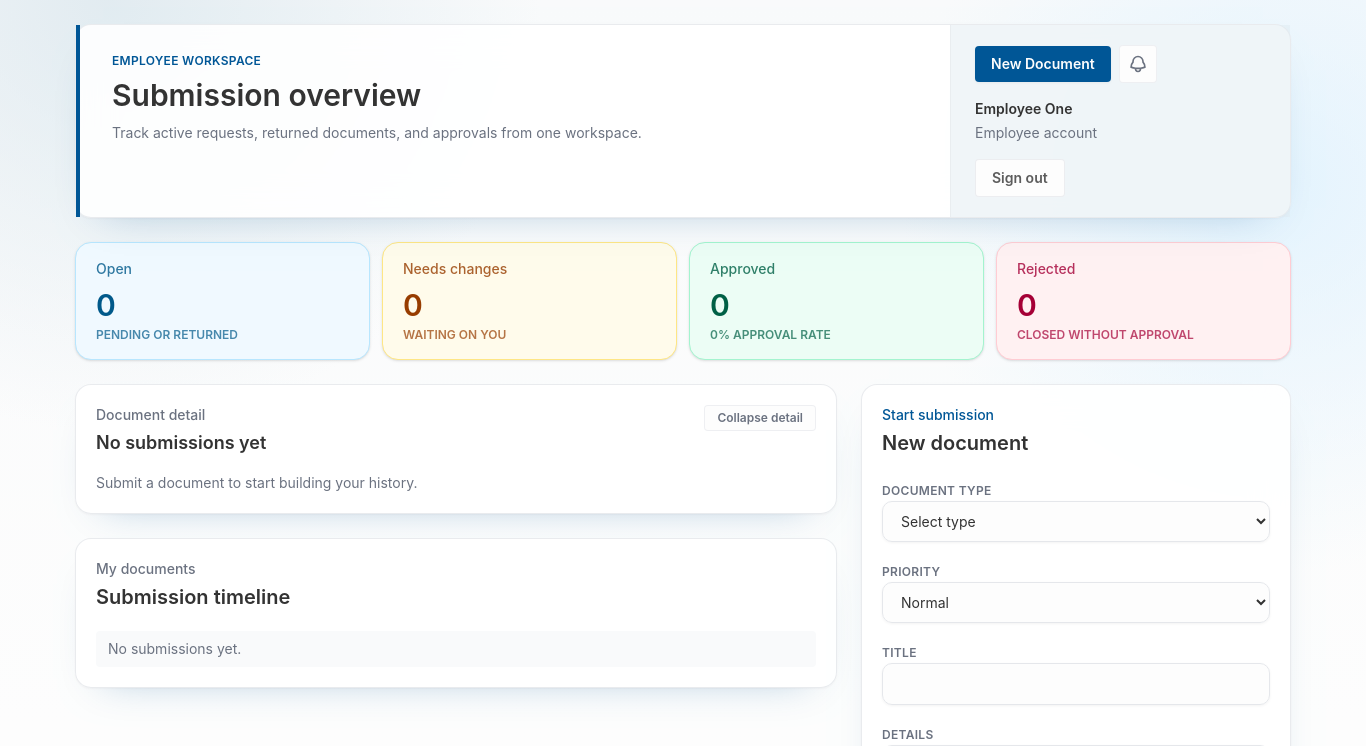
it: DashboardPage › renders the notifications empty state
Click the button named "Notifications". click: (1138, 64)
box: [1119,45,1157,83]
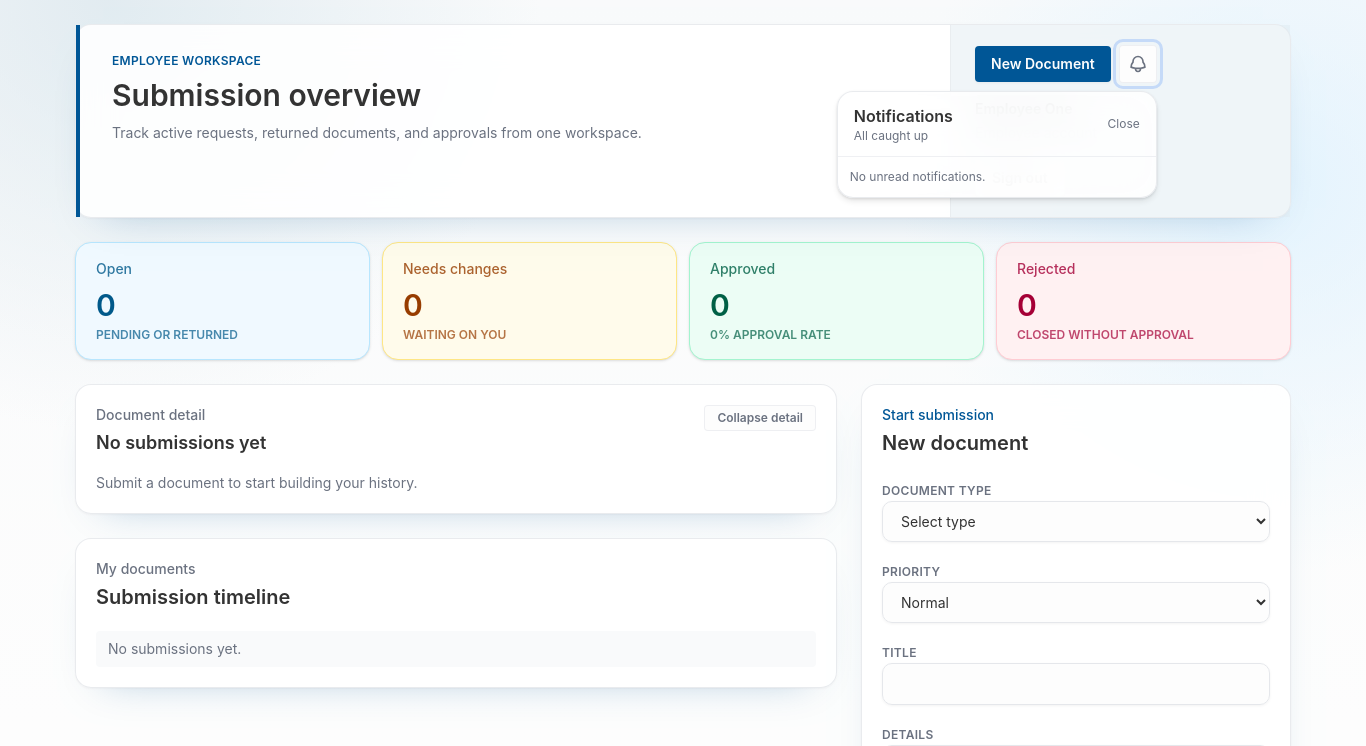
Check: the text "All caught up" is shown, box [854,128,928,143]
Check: the text "No unread notifications." is shown, box [850,169,986,184]
